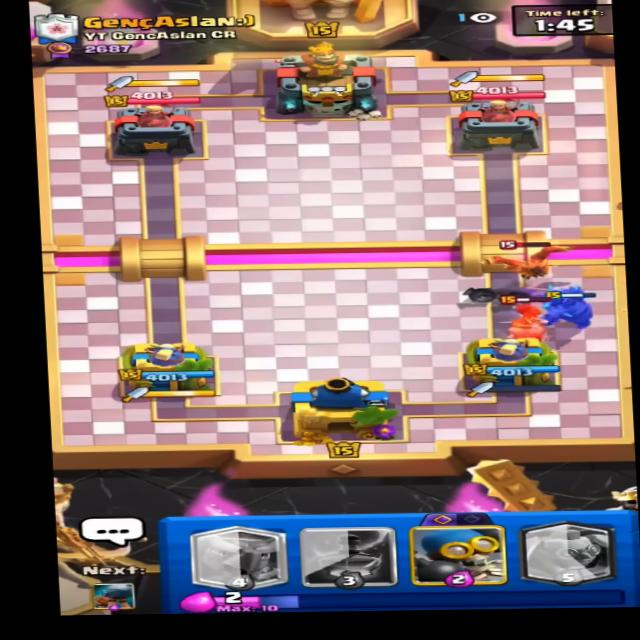phoenix: (472, 234, 585, 287)
ram-rider: (497, 297, 566, 348)
